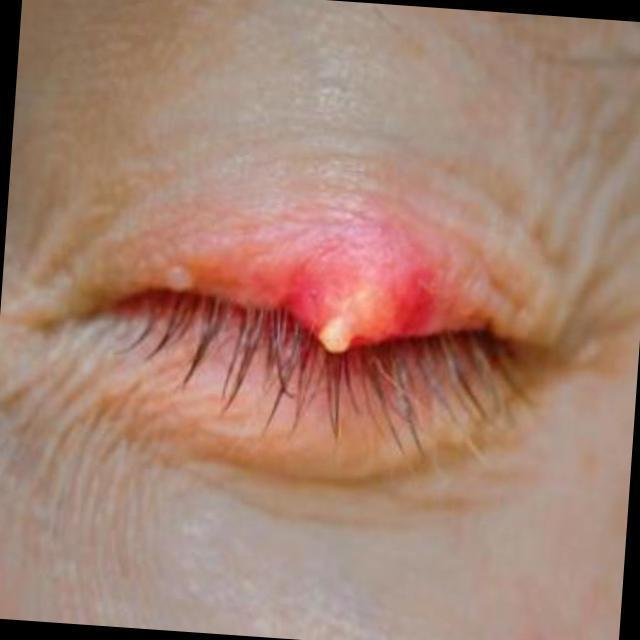Stye: (181, 181, 490, 418)
